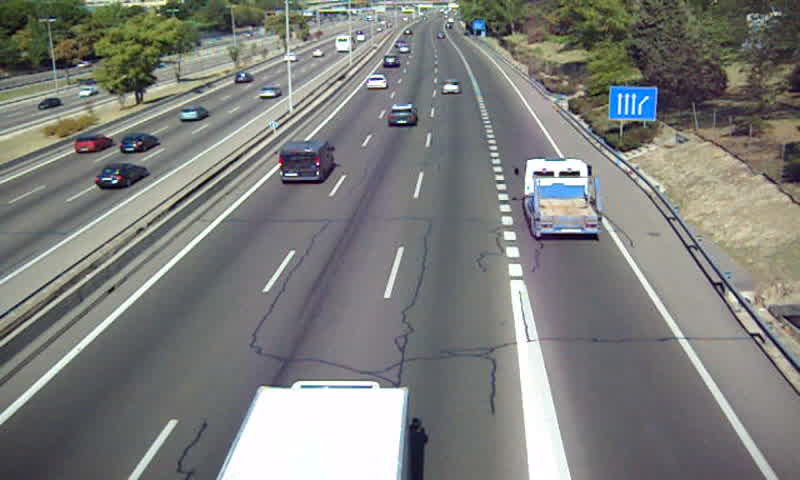car: (388, 103, 416, 127), (364, 74, 387, 91), (441, 80, 462, 98), (382, 53, 400, 69)
small-truck: (525, 158, 603, 236)
van: (278, 140, 336, 181)
